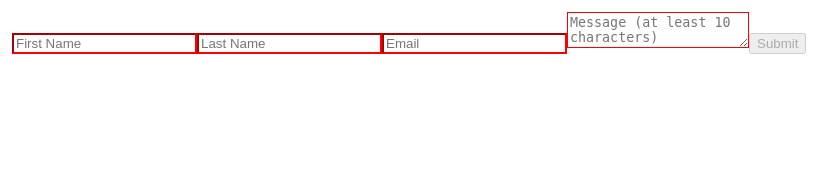
FormComponent › enables submit button if form is valid
The width and height of the screenshot is (823, 172).
Type "John" into the field with placeholder "First Name" at (104, 44), box [12, 33, 197, 54]
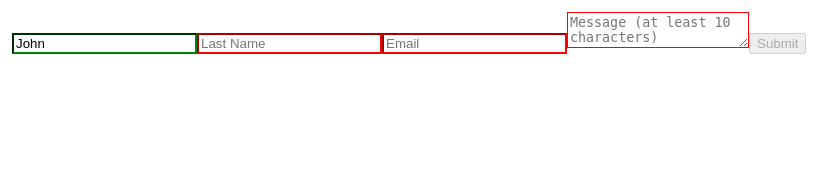
Type "Doe" into the field with placeholder "Last Name" at (290, 44), box [197, 33, 382, 54]
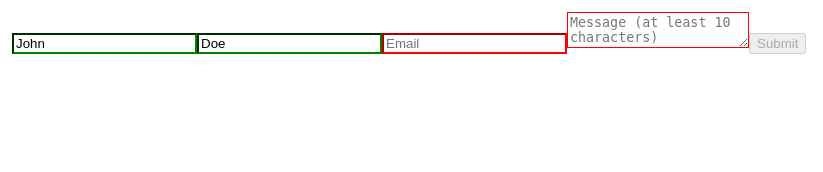
Type "john.doe@example.com" into the field with placeholder "Email" at (474, 44), box [382, 33, 567, 54]
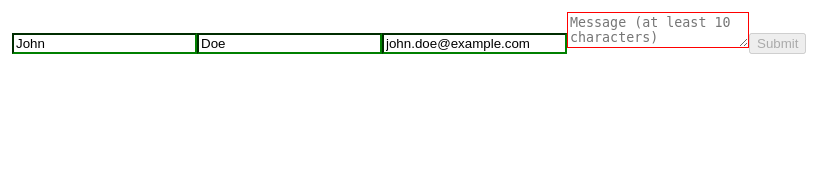
Type "This is a valid message." into the text box with placeholder "Message (at least 10 characters)" at (658, 30), box [567, 12, 749, 48]
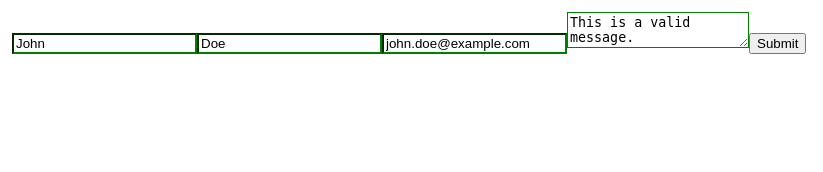
Now the button "Submit" is enabled, box [749, 33, 806, 54]
